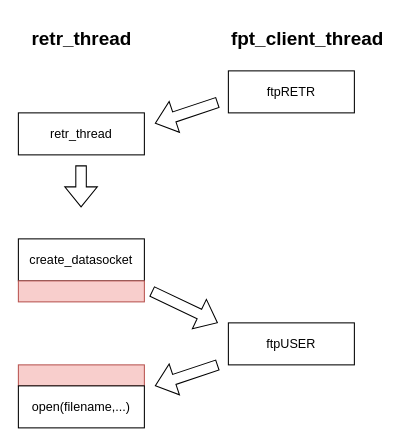
Image size: 415x446. Some labels were removed from this diagram. Each missing label, with the box of its shape:
LOCK: (17, 280, 144, 302)
UNLOCK: (17, 364, 144, 386)
